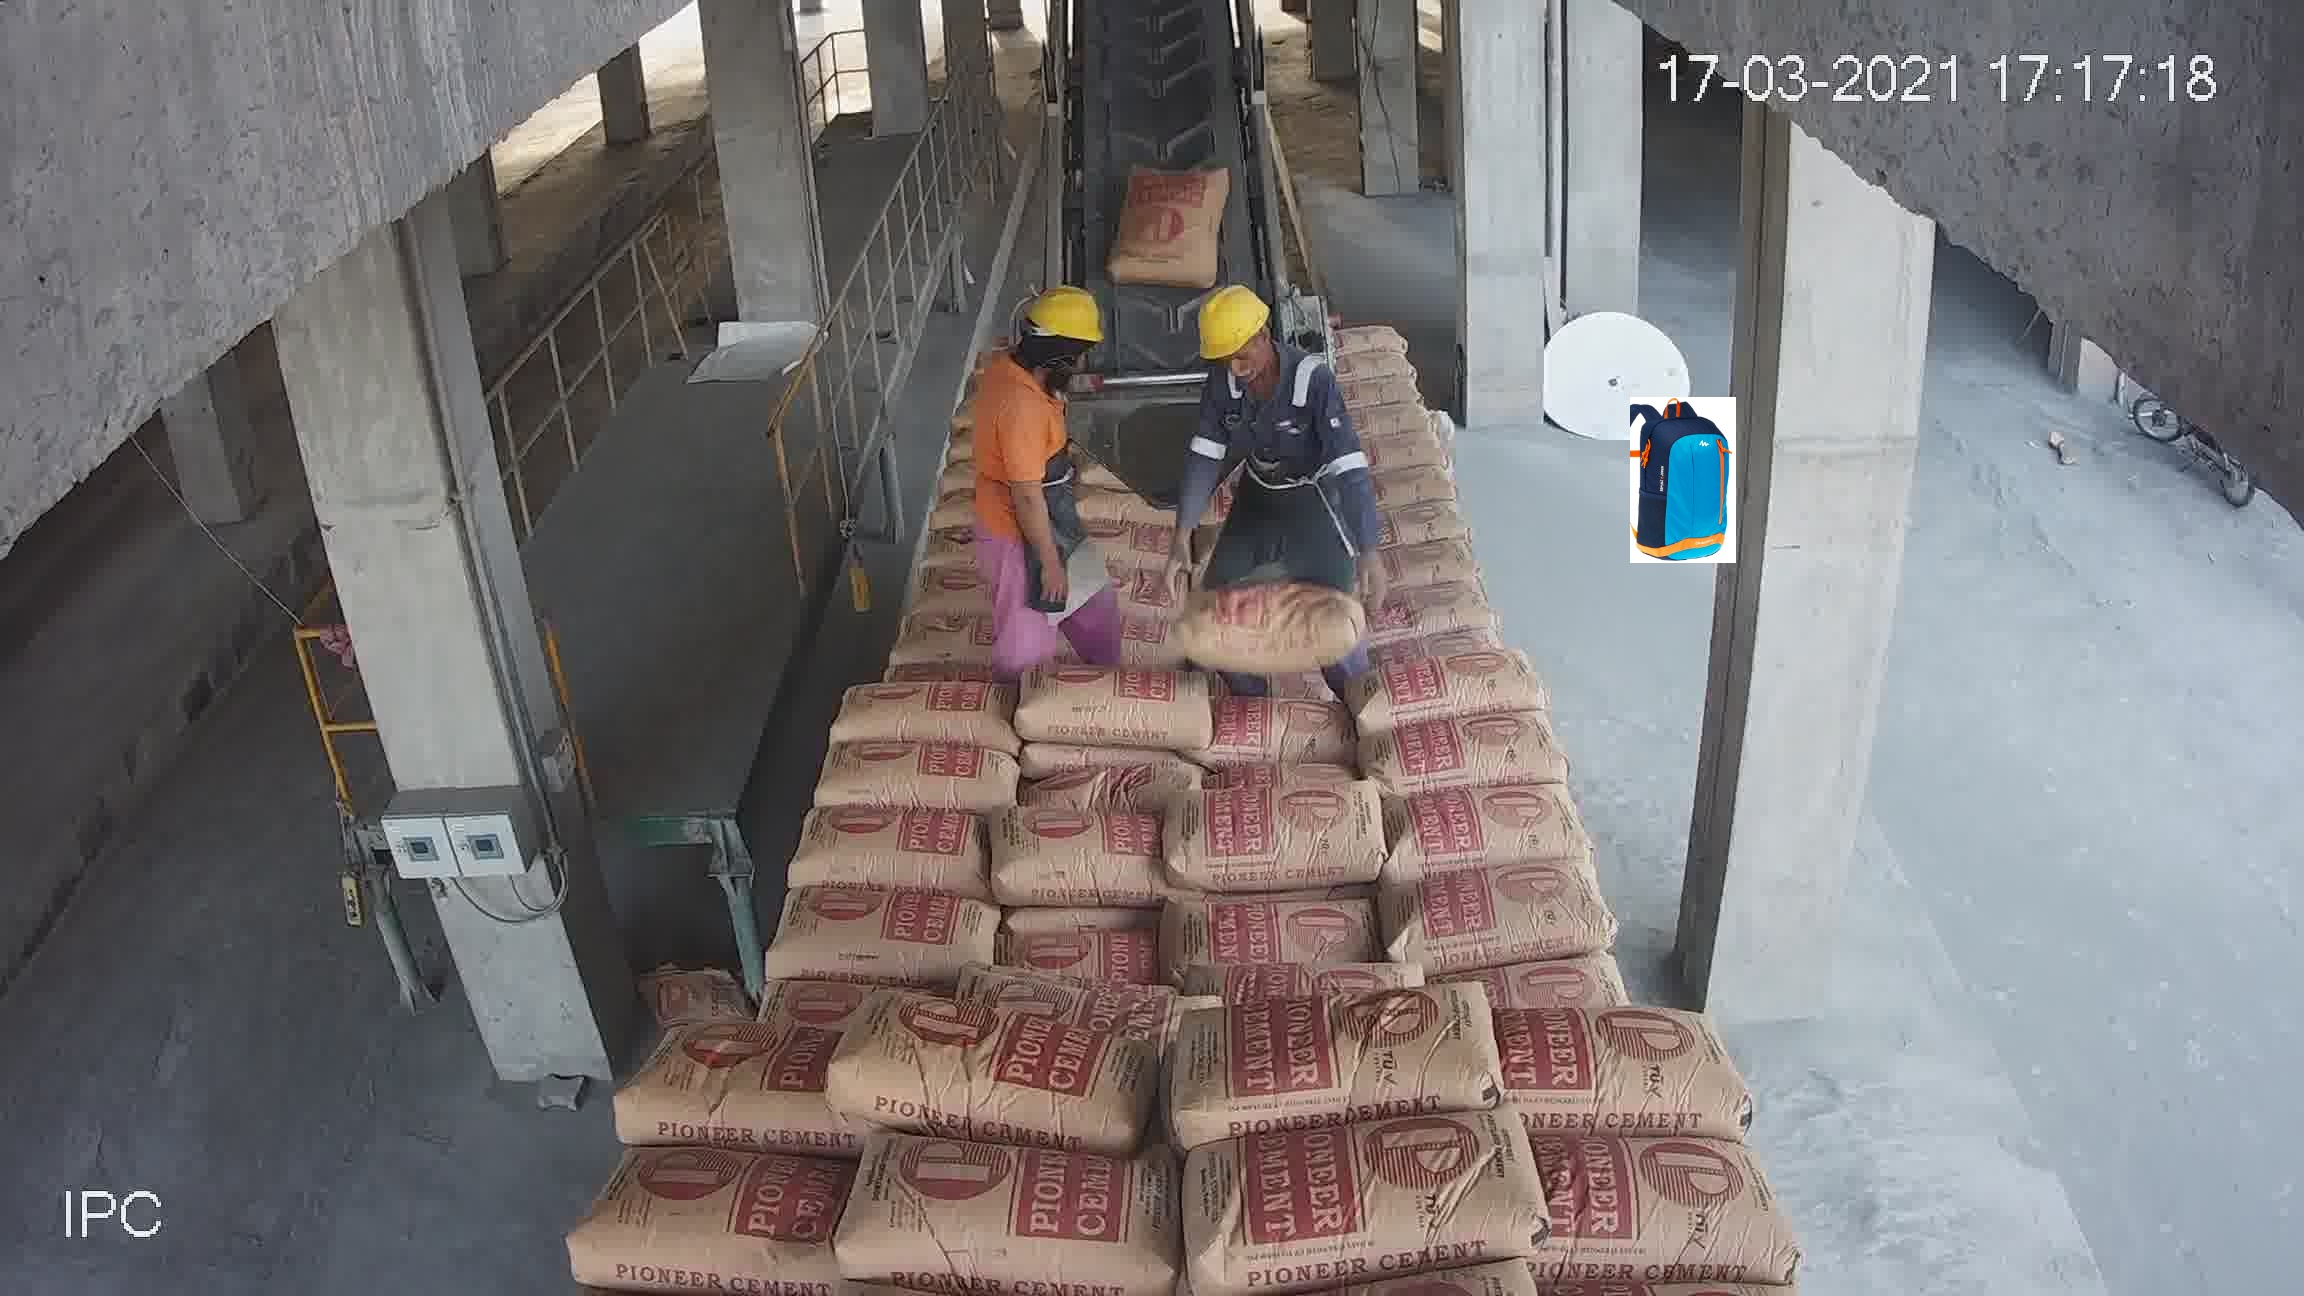bag: (1103, 171, 1226, 286)
bag_h: (1171, 1112, 1537, 1288), (1188, 975, 1519, 1138), (851, 1130, 1173, 1294), (802, 1003, 1139, 1136), (574, 1143, 859, 1296), (1514, 1124, 1780, 1285), (1478, 1003, 1730, 1139), (616, 1035, 843, 1157), (1176, 779, 1399, 889), (1370, 869, 1606, 965), (767, 886, 997, 984), (788, 798, 991, 899), (1385, 779, 1586, 880), (1169, 889, 1377, 984), (1013, 665, 1222, 750), (994, 810, 1161, 908), (813, 739, 1027, 813), (1383, 701, 1554, 793), (1347, 650, 1556, 723), (1187, 581, 1355, 669), (831, 677, 1017, 756), (1000, 899, 1166, 983), (970, 970, 1188, 1024), (1198, 695, 1331, 777), (1340, 546, 1500, 601), (1359, 578, 1495, 638), (875, 609, 1014, 668), (1356, 514, 1495, 571), (1343, 419, 1465, 476), (1364, 619, 1502, 663), (1358, 475, 1472, 522), (1340, 402, 1448, 445), (1320, 369, 1445, 405), (1332, 318, 1416, 362), (1339, 350, 1419, 391)
belt: (1040, 25, 1296, 438)
